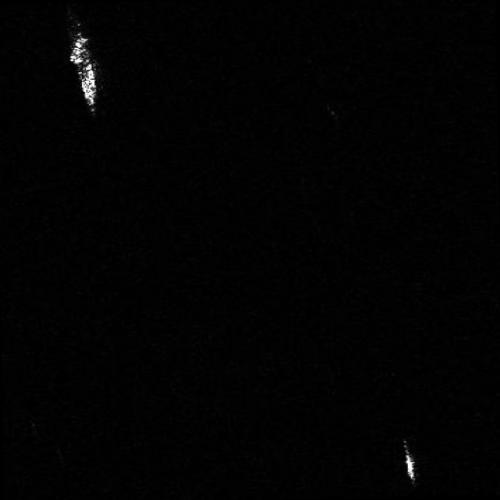ship: (68, 35, 100, 110), (404, 449, 418, 483)
